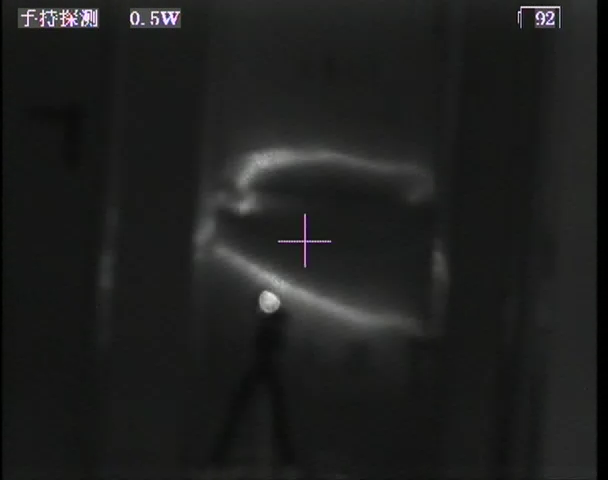my: (252, 287, 284, 314)
